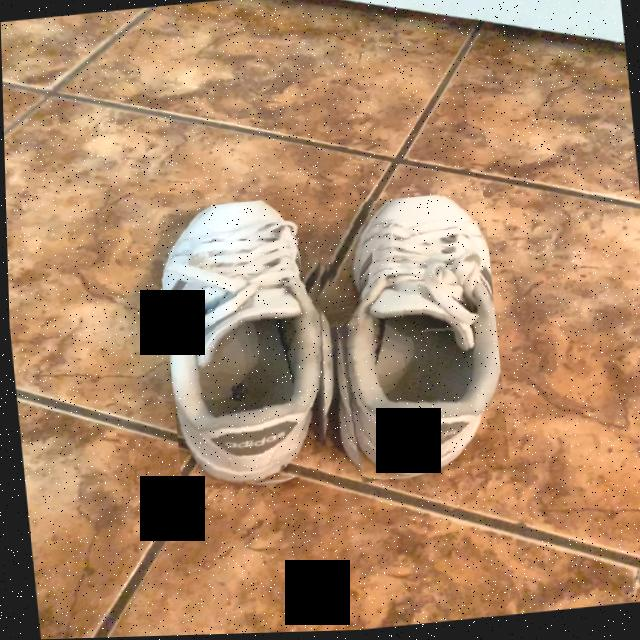shoe: (159, 202, 323, 486), (342, 197, 498, 478)
